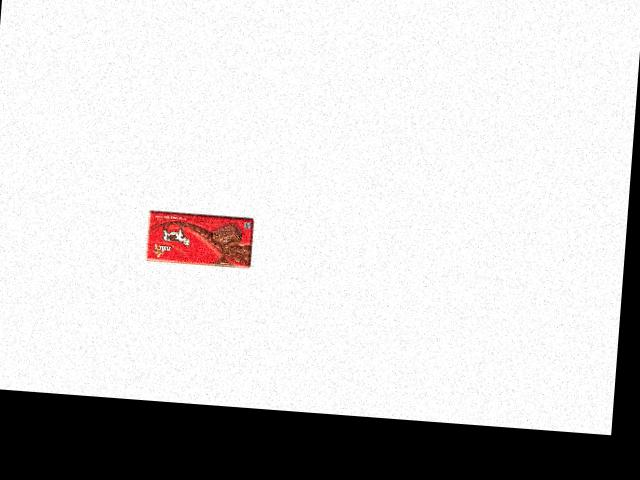chocolate: (154, 219, 256, 279)
